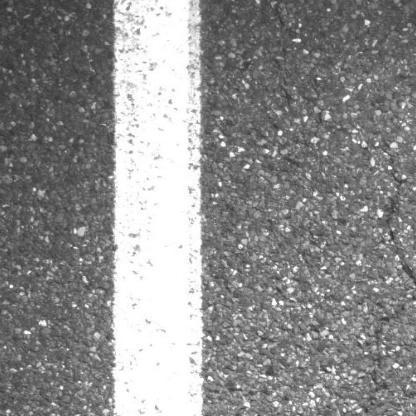Cracks: (356, 148, 416, 416)
